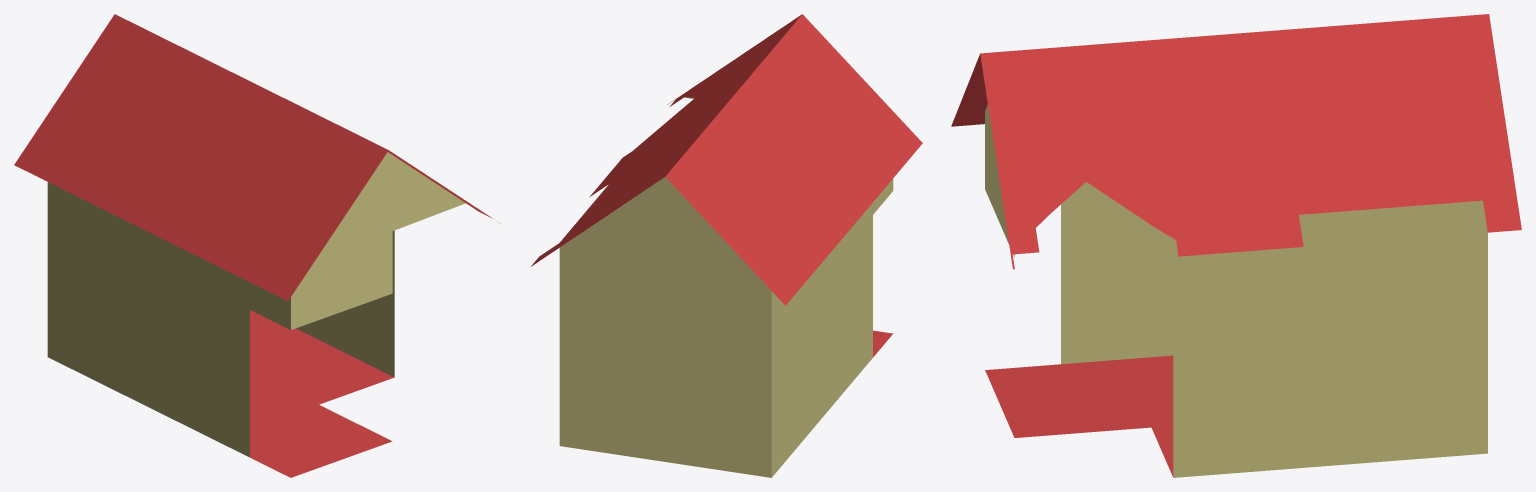
3 views of the same model, side by side, from view 1: azimuth 30°, elevation 25°; view 2: azimuth 150°, elevation 25°; view 3: azimuth 270°, elevation 25° (orthographic). The views are drawn at different scales.
Size of the model in its own units: 14.76 by 19.54 by 14.13.
